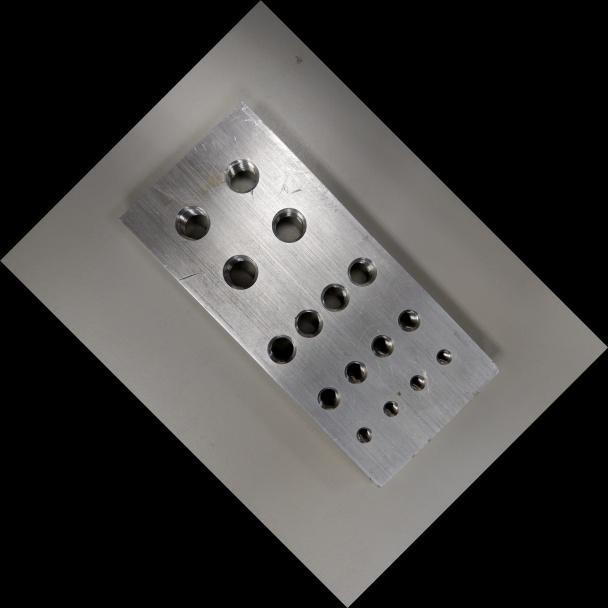hole: (213, 245, 267, 299), (165, 195, 218, 249), (262, 199, 314, 251), (216, 149, 268, 201), (259, 327, 303, 371), (340, 250, 384, 293), (313, 276, 357, 319), (287, 301, 330, 345), (364, 328, 400, 364), (310, 380, 346, 416), (338, 354, 373, 390), (391, 303, 426, 338), (350, 422, 377, 448), (404, 370, 430, 395), (377, 396, 403, 421), (431, 344, 456, 369)
